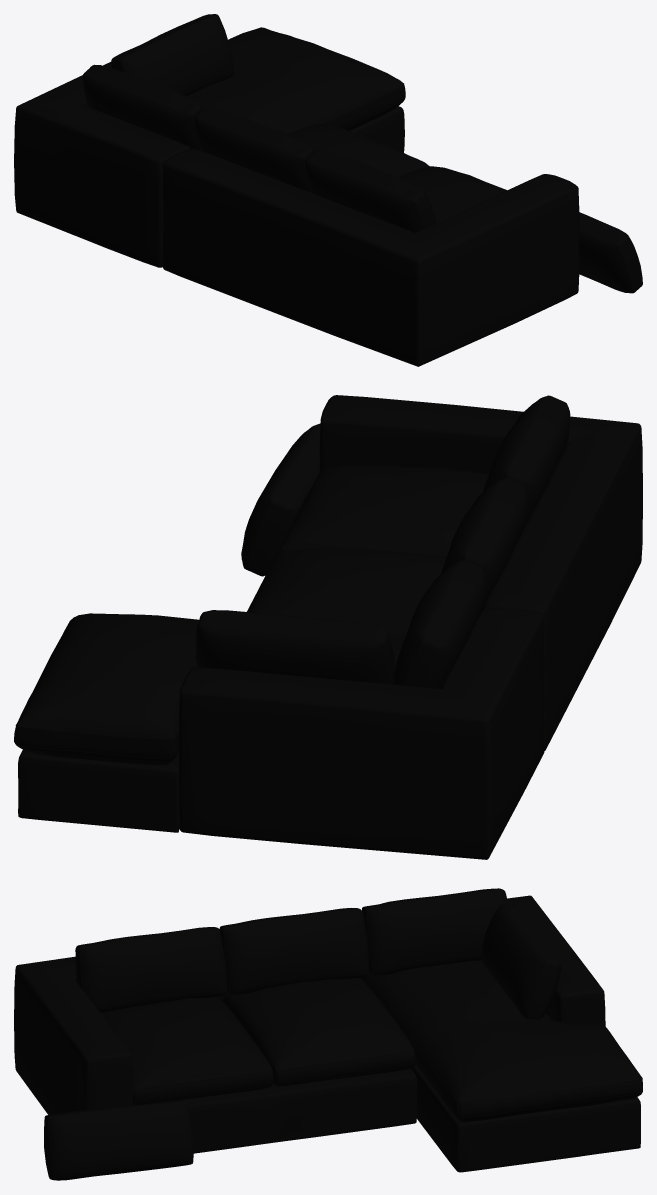
Rendered from sofanuevo.fbx.
The picture shows the model from 3 angles, top to bottom: view 1: azimuth 30°, elevation 25°; view 2: azimuth 150°, elevation 25°; view 3: azimuth 270°, elevation 25°; orthographic projection. The views are drawn at different scales.
Parts seen in each view (by area): view 1: polySurface116, polySurface118; view 2: polySurface116, polySurface118; view 3: polySurface116, polySurface118.
Boxes of the visible parts, left/top/right/bottom form: polySurface116: left=14, top=14, right=579, bottom=366; polySurface118: left=579, top=212, right=642, bottom=293; polySurface116: left=14, top=395, right=642, bottom=859; polySurface118: left=241, top=423, right=320, bottom=576; polySurface116: left=14, top=888, right=642, bottom=1172; polySurface118: left=44, top=1100, right=193, bottom=1180.
Size of the model in its own units: 5.13 by 1.84 by 7.18.
1 material, 1 textured.
